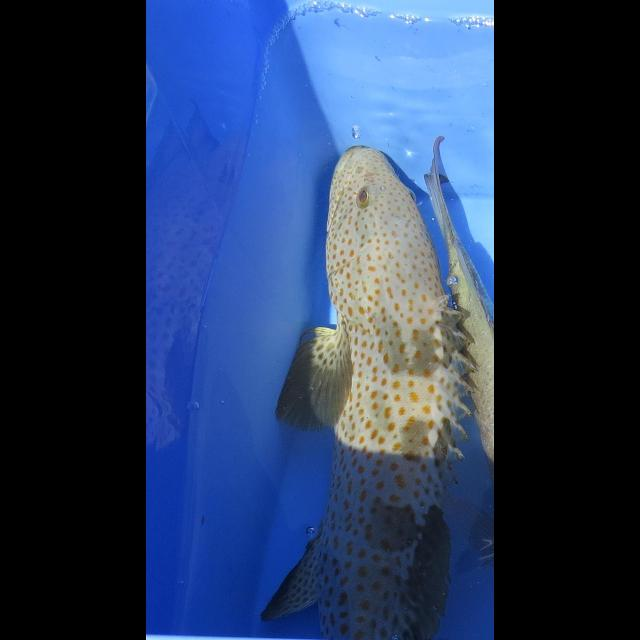Groupers: (260, 140, 472, 640)
